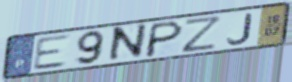9: (73, 29, 106, 67)
E: (31, 32, 74, 72)
J: (226, 12, 254, 46)
N: (105, 21, 149, 65)
P: (142, 19, 186, 59)
Z: (180, 14, 224, 54)
